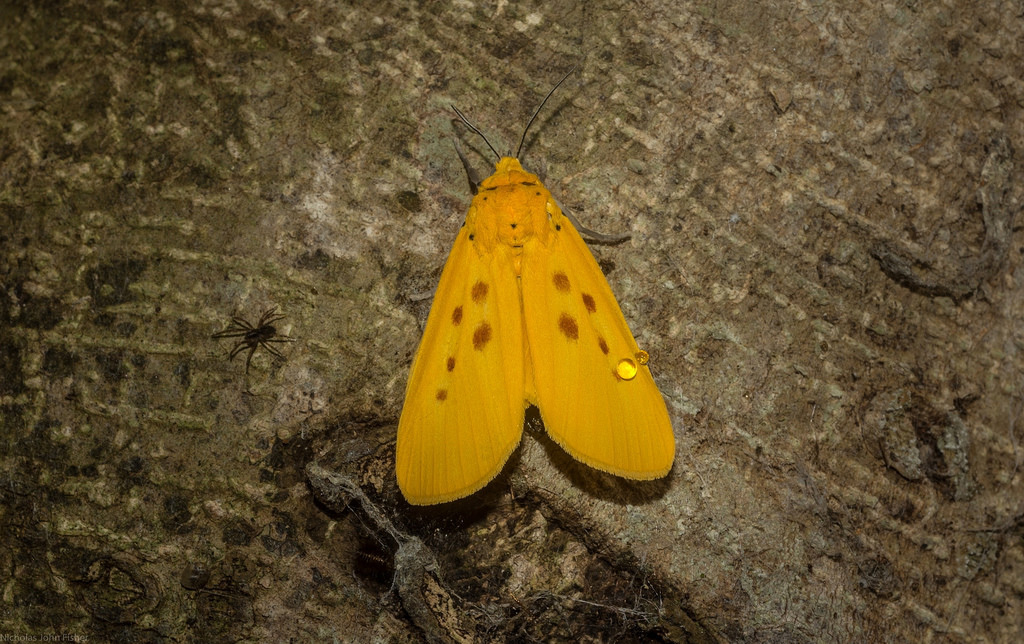Agape chloropyga: (390, 69, 677, 506)
moth: (392, 71, 679, 508)
